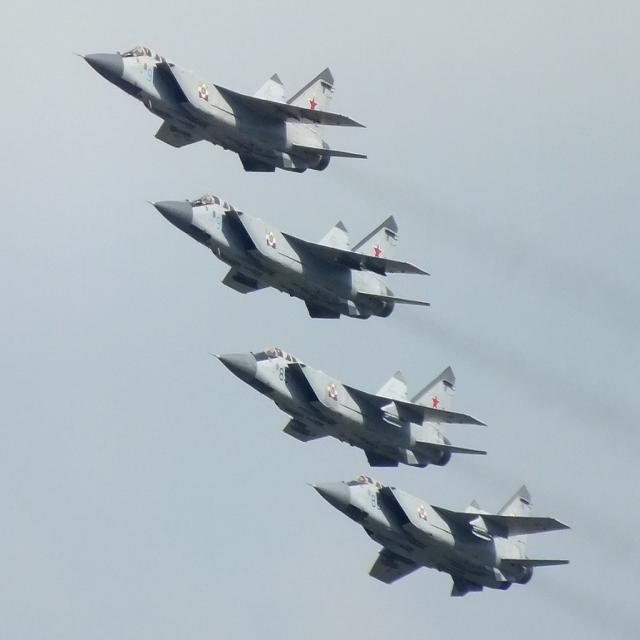MIL_Plane: (72, 45, 368, 173), (142, 193, 430, 320), (207, 346, 488, 468), (304, 472, 572, 598)
